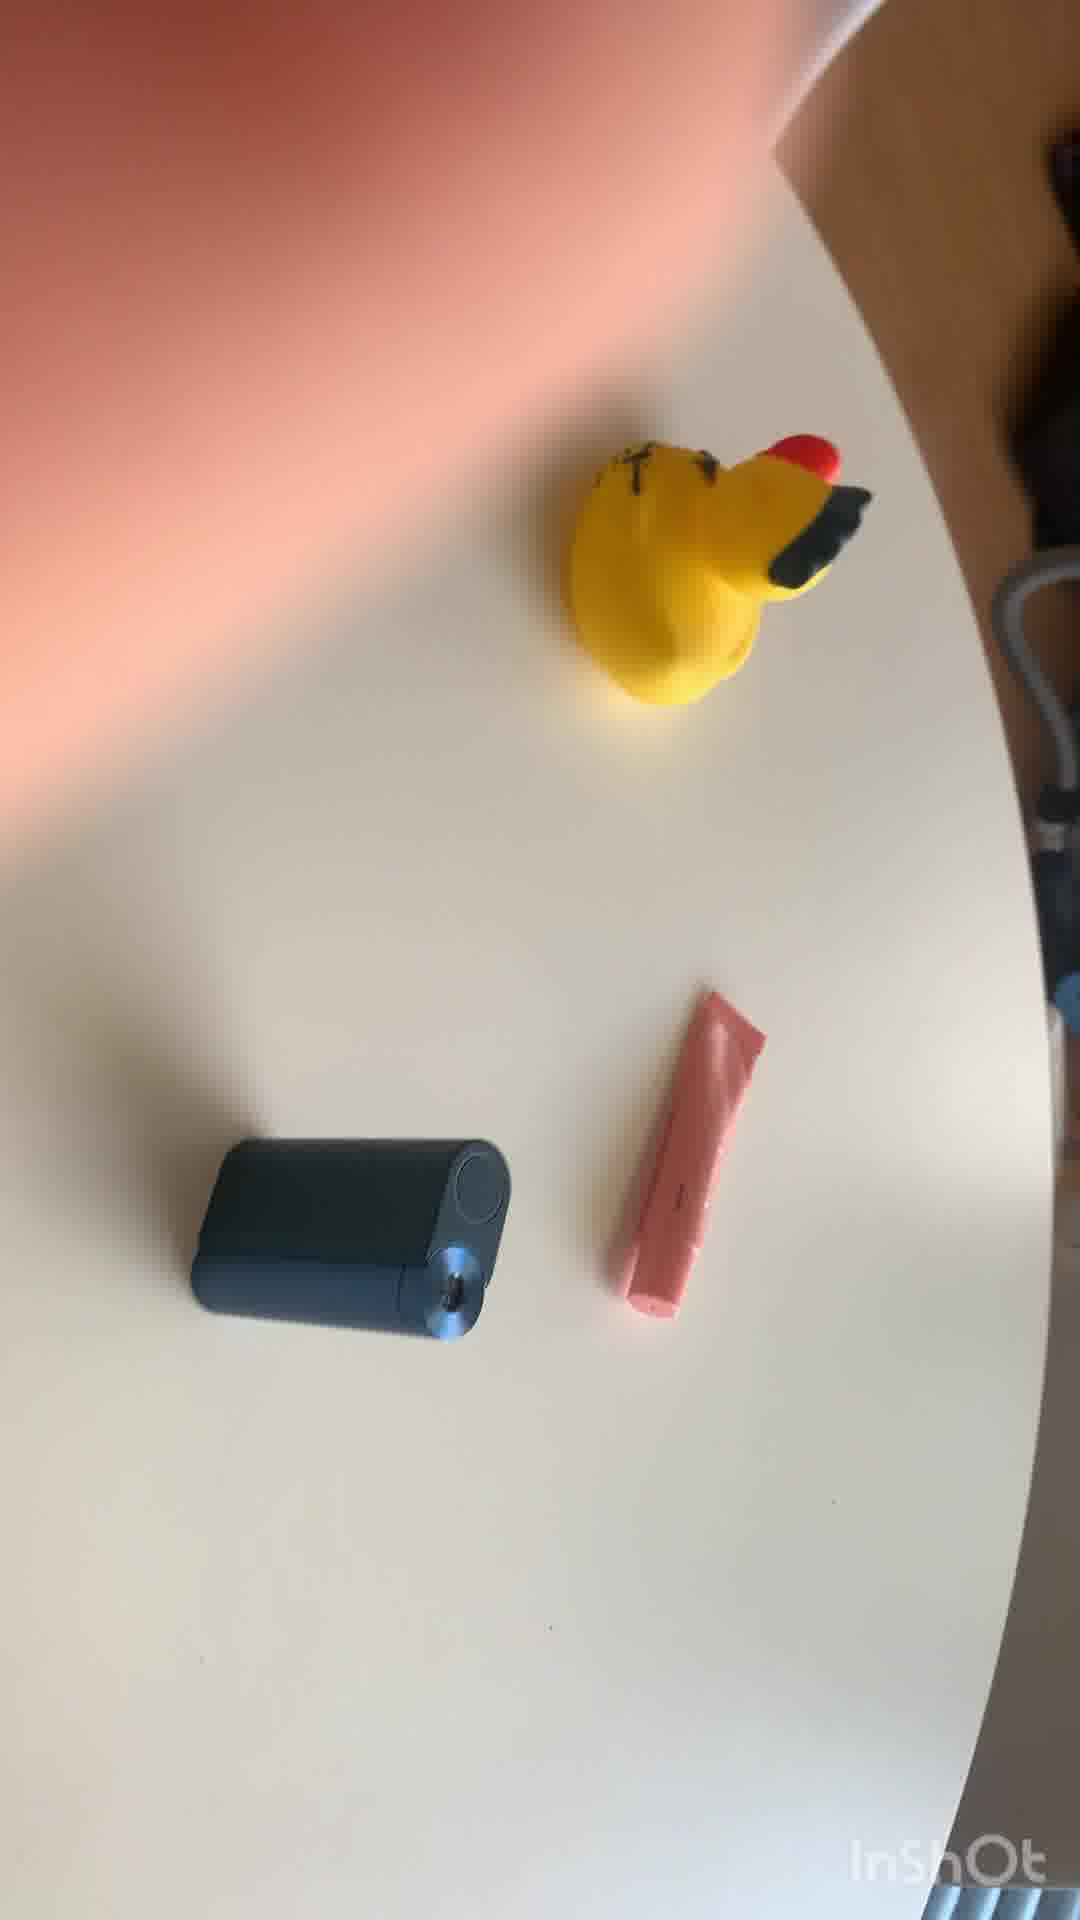duck: (551, 421, 874, 717)
glo: (185, 1131, 526, 1352)
lip balm: (600, 972, 767, 1327)
